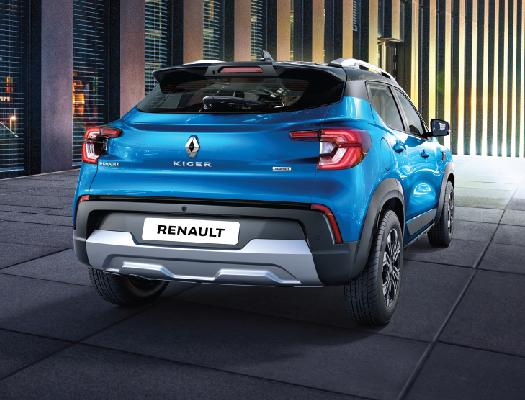Renault: (178, 129, 205, 163)
